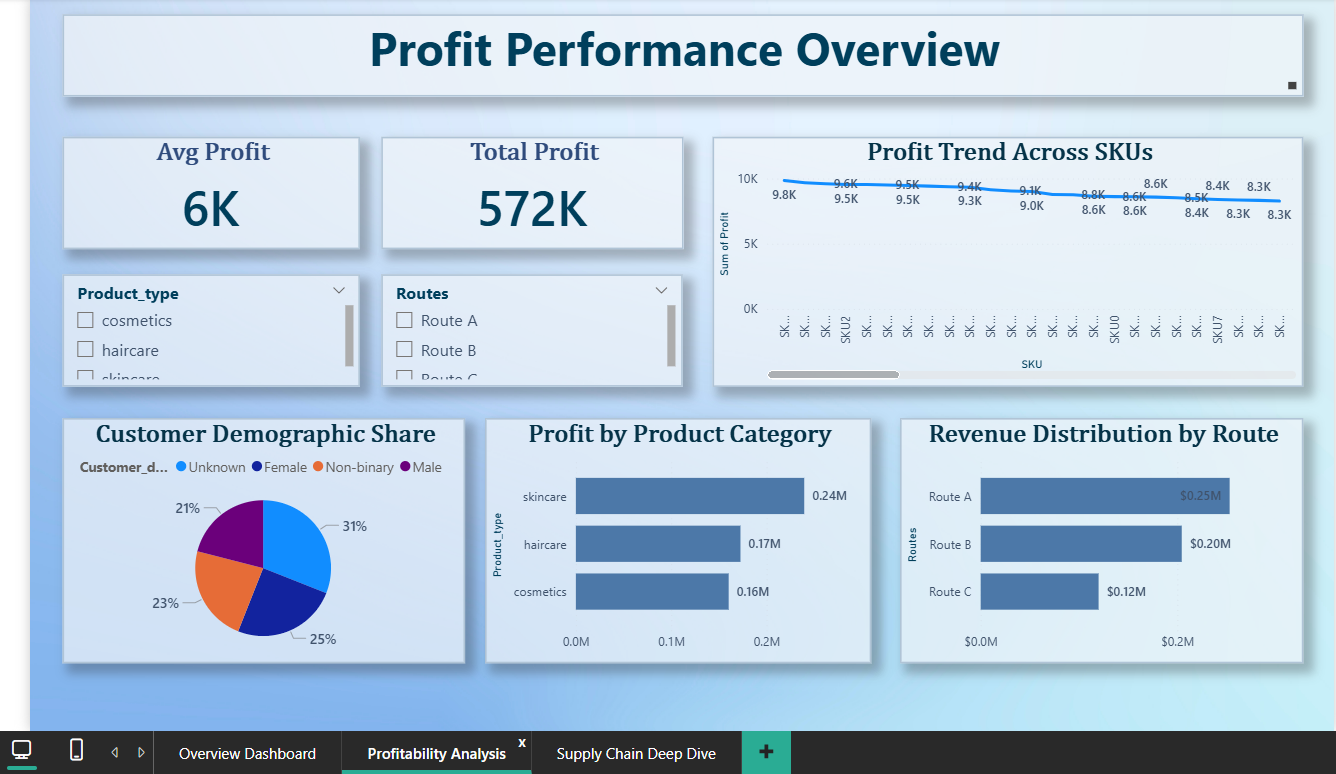

The page's visual inventory and layout, read from the dashboard file:
{"tool":"powerbi","page":{"name":"Profitability Analysis","canvas":[1280,720],"ordinal":1},"visuals":[{"type":"card","title":"\tAvg Profit","fields":{"Values":["Avg(project_supply_chain_data supply_chain_table.Profit)"]},"box":[31.9,136.2,292,110.4],"z":0},{"type":"lineChart","title":"\tProfit Trend Across SKUs","fields":{"Y":["Sum(project_supply_chain_data supply_chain_table.Profit)"],"Category":["project_supply_chain_data supply_chain_table.SKU"]},"box":[669.9,136.2,580.4,245.4],"z":1000},{"type":"clusteredBarChart","title":"Profit by Product Category","fields":{"Category":["project_supply_chain_data supply_chain_table.Product_type"],"Y":["Sum(project_supply_chain_data supply_chain_table.Profit)"]},"box":[446.6,412.3,379.1,240.5],"z":2000},{"type":"barChart","title":"Revenue Distribution by Route","fields":{"Category":["project_supply_chain_data supply_chain_table.Routes"],"Y":["Sum(project_supply_chain_data supply_chain_table.Revenue_generated)"]},"box":[854,412.3,396.3,240.5],"z":3000},{"type":"pieChart","title":"Customer Demographic Share","fields":{"Category":["project_supply_chain_data supply_chain_table.Customer_demographics"],"Y":["CountNonNull(project_supply_chain_data supply_chain_table.SKU)"]},"box":[31.9,412.3,395.1,240.5],"z":4000},{"type":"slicer","fields":{"Values":["project_supply_chain_data supply_chain_table.Routes"]},"box":[344.8,271.2,295.7,110.4],"z":5000},{"type":"slicer","fields":{"Values":["project_supply_chain_data supply_chain_table.Product_type"]},"box":[31.9,271.2,292,110.4],"z":6000},{"type":"textbox","title":"Profit Performance Overview","box":[31.9,16,1218.4,81],"z":7000},{"type":"card","title":"Total Profit","fields":{"Values":["Sum(project_supply_chain_data supply_chain_table.Profit)"]},"box":[344.8,136.2,296.9,110.4],"z":8000}]}

Visuals, with their boxes on the page's 1280x720 design canvas (x1, y1, x2, y2). These are canvas units, not pixel positions in the 1336x774 screenshot, which may show the page scaled, cropped or inside an application window:
"	Avg Profit" card: region(32, 136, 324, 247)
"	Profit Trend Across SKUs" lineChart: region(670, 136, 1250, 382)
"Profit by Product Category" clusteredBarChart: region(447, 412, 826, 653)
"Revenue Distribution by Route" barChart: region(854, 412, 1250, 653)
"Customer Demographic Share" pieChart: region(32, 412, 427, 653)
slicer - project_supply_chain_data supply_chain_table.Routes: region(345, 271, 640, 382)
slicer - project_supply_chain_data supply_chain_table.Product_type: region(32, 271, 324, 382)
"Profit Performance Overview" textbox: region(32, 16, 1250, 97)
"Total Profit" card: region(345, 136, 642, 247)
